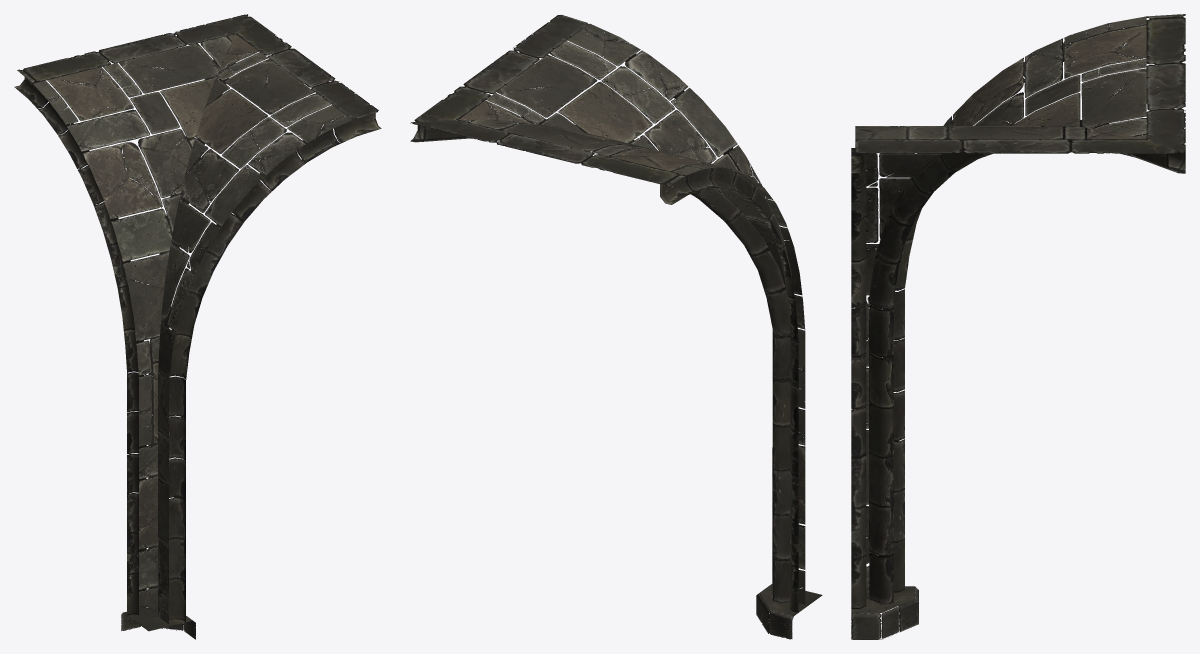
3 renders of one model, left to right at view 1: azimuth 30°, elevation 25°; view 2: azimuth 150°, elevation 25°; view 3: azimuth 270°, elevation 25°, orthographic. The views are drawn at different scales.
Parts seen in each view (by area): view 1: SM_Dowdun_Vaulted_Ceiling_12x3_01_LOD0; view 2: SM_Dowdun_Vaulted_Ceiling_12x3_01_LOD0; view 3: SM_Dowdun_Vaulted_Ceiling_12x3_01_LOD0.
Part boxes in pixels (x1,y1,x2,y2): SM_Dowdun_Vaulted_Ceiling_12x3_01_LOD0: (14, 14, 381, 639); SM_Dowdun_Vaulted_Ceiling_12x3_01_LOD0: (410, 14, 822, 639); SM_Dowdun_Vaulted_Ceiling_12x3_01_LOD0: (851, 14, 1185, 639).
Bounding box in the file's own units: 6.08 × 12 × 6.08.
2 materials, 2 textured.
